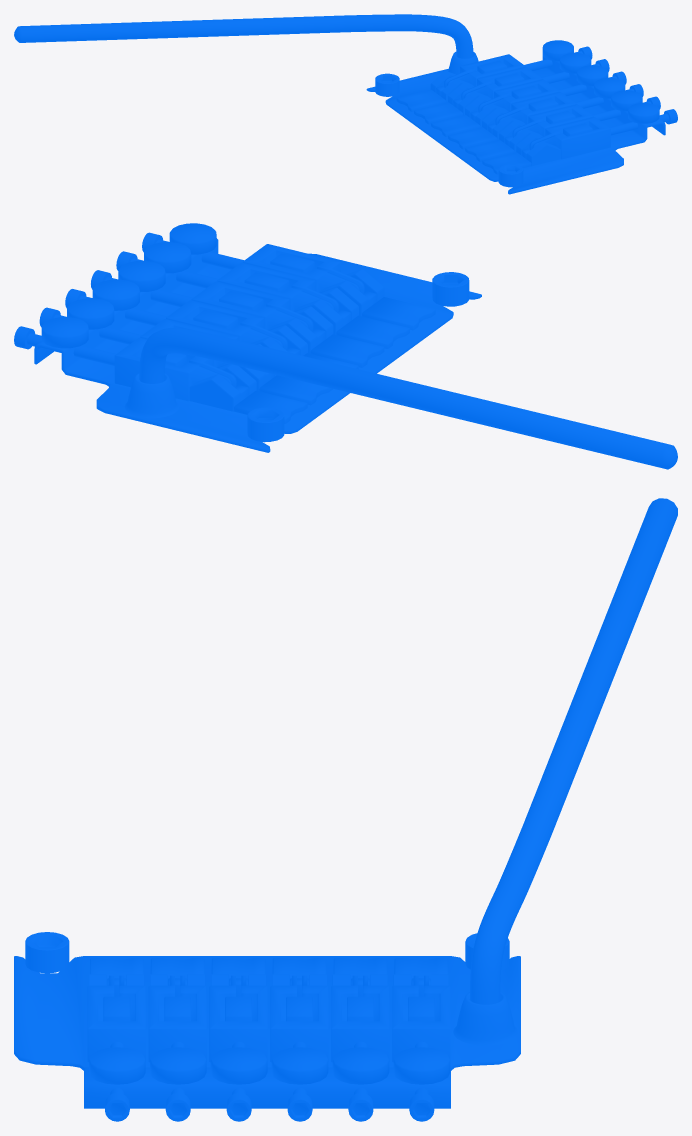
Rendered from whammy_03_simple.glb.
3 views of the same model, one above another, from view 1: azimuth 30°, elevation 25°; view 2: azimuth 150°, elevation 25°; view 3: azimuth 270°, elevation 25° (orthographic). The views are drawn at different scales.
Visible parts, largest first — view 1: Whammy_03_simple; view 2: Whammy_03_simple; view 3: Whammy_03_simple.
Part boxes in pixels (x1,y1,x2,y2): Whammy_03_simple: (14,14,677,194); Whammy_03_simple: (14,223,677,469); Whammy_03_simple: (14,498,677,1121).
Size of the model in its own units: 0.1304 by 0.0269 by 0.0831.
